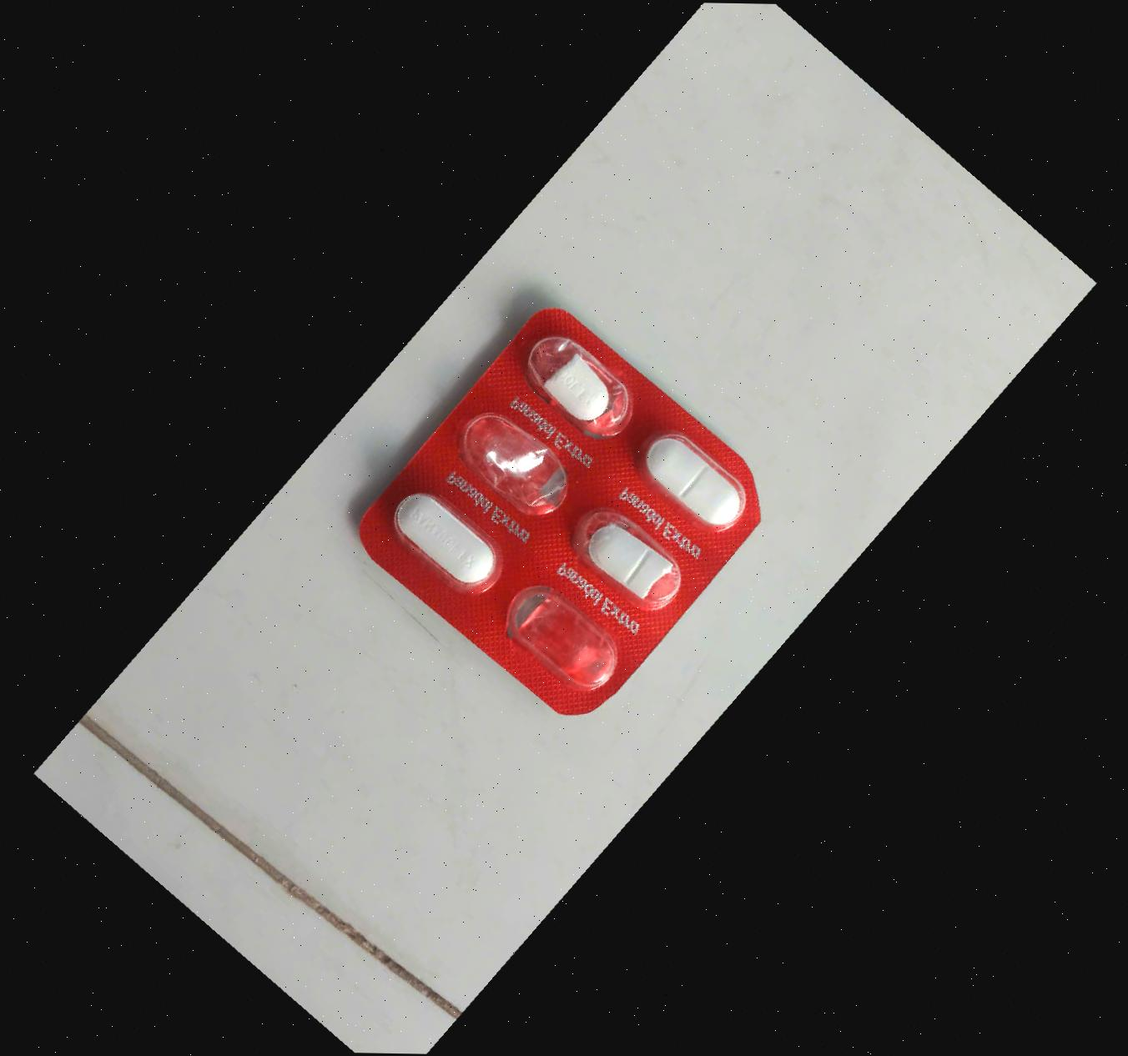Empty: (492, 572, 638, 713), (443, 392, 588, 533)
Full: (622, 413, 768, 554), (373, 470, 518, 610)
Partial: (554, 490, 699, 630), (506, 317, 651, 457)
